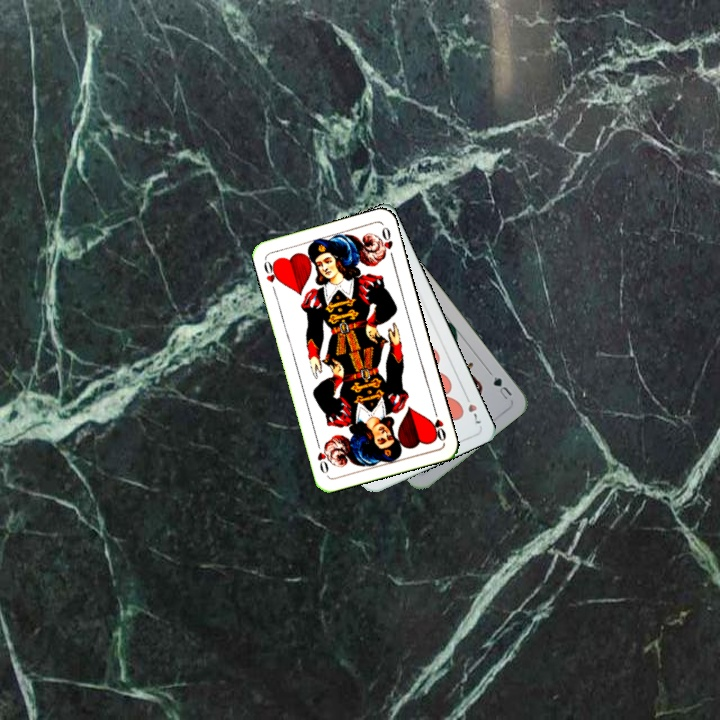GU: (485, 368, 515, 402)
H7: (461, 389, 484, 426)
HO: (427, 404, 449, 444), (260, 256, 283, 285)
